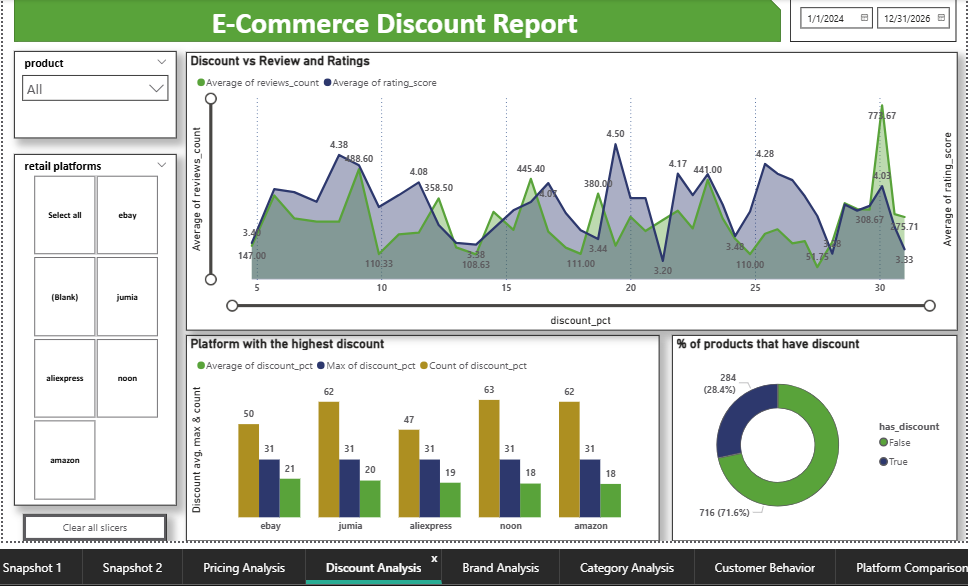

Layout of this report page (visuals, bound fields, positions):
{"tool":"powerbi","page":{"name":"Discount Analysis","canvas":[1280,720],"ordinal":3},"visuals":[{"type":"shape","box":[14.9,0,1018.8,56.8],"z":0},{"type":"slicer","fields":{"Values":["ecommerce_dataset.product"]},"box":[14.3,69.7,216.3,116.2],"z":1000},{"type":"slicer","fields":{"Values":["ecommerce_dataset.retail platforms"]},"box":[14.3,205.6,216.3,466.6],"z":2000},{"type":"clusteredColumnChart","title":"Platform with the highest discount","fields":{"Category":["ecommerce_dataset.retail platforms"],"Y":["Avg(ecommerce_dataset.discount_pct)","Max(ecommerce_dataset.discount_pct)","CountNonNull(ecommerce_dataset.discount_pct)1"]},"box":[243.1,446.9,629.3,273.5],"z":3000},{"type":"areaChart","title":"Discount vs Review and Ratings","fields":{"Y":["Avg(ecommerce_dataset.reviews_count)"],"Category":["ecommerce_dataset.discount_pct"],"Y2":["Avg(ecommerce_dataset.rating_score)"]},"box":[242.6,69.9,1024.6,369.6],"z":4000},{"type":"donutChart","title":"% of products that have discount","fields":{"Y":["CountNonNull(ecommerce_dataset.product)"],"Category":["ecommerce_dataset.has_discount"]},"box":[888.5,446.9,379,273.5],"z":5000},{"type":"actionButton","box":[26.8,684.7,191.3,35.8],"z":6000},{"type":"slicer","fields":{"Values":["Date Table.Date"]},"box":[1045.6,0,221.1,56.8],"z":7000}]}

Visuals, with their boxes on the page's 1280x720 design canvas (x1, y1, x2, y2). These are canvas units, not pixel positions in the 968x586 screenshot, which may show the page scaled, cropped or inside an application window:
shape: crop(15, 0, 1034, 57)
slicer - ecommerce_dataset.product: crop(14, 70, 231, 186)
slicer - ecommerce_dataset.retail platforms: crop(14, 206, 231, 672)
"Platform with the highest discount" clusteredColumnChart: crop(243, 447, 872, 720)
"Discount vs Review and Ratings" areaChart: crop(243, 70, 1267, 440)
"% of products that have discount" donutChart: crop(888, 447, 1268, 720)
actionButton: crop(27, 685, 218, 720)
slicer - Date Table.Date: crop(1046, 0, 1267, 57)
